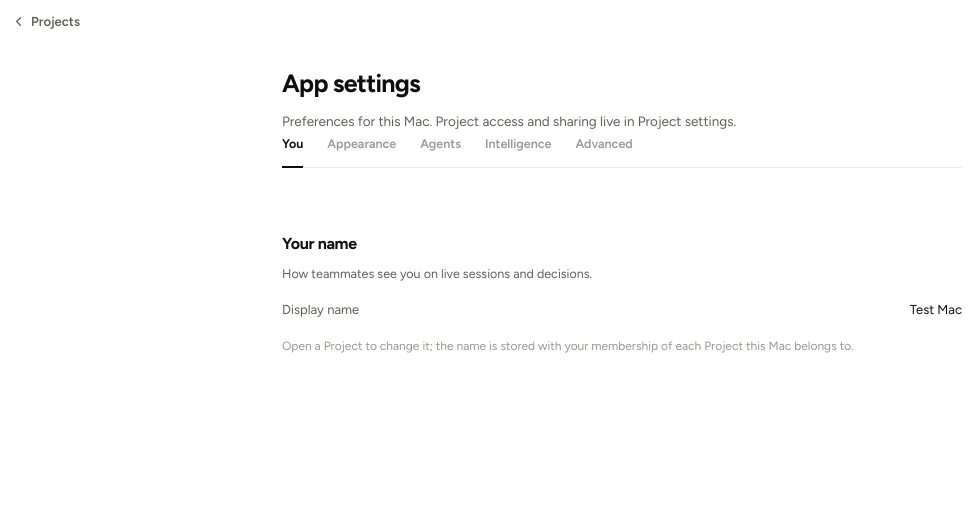
Test: the local service › reports what it is doing as facts rather than a sentence
Click the button "Advanced".
click(604, 150)  # box top-left (575, 133), bottom-right (633, 167)
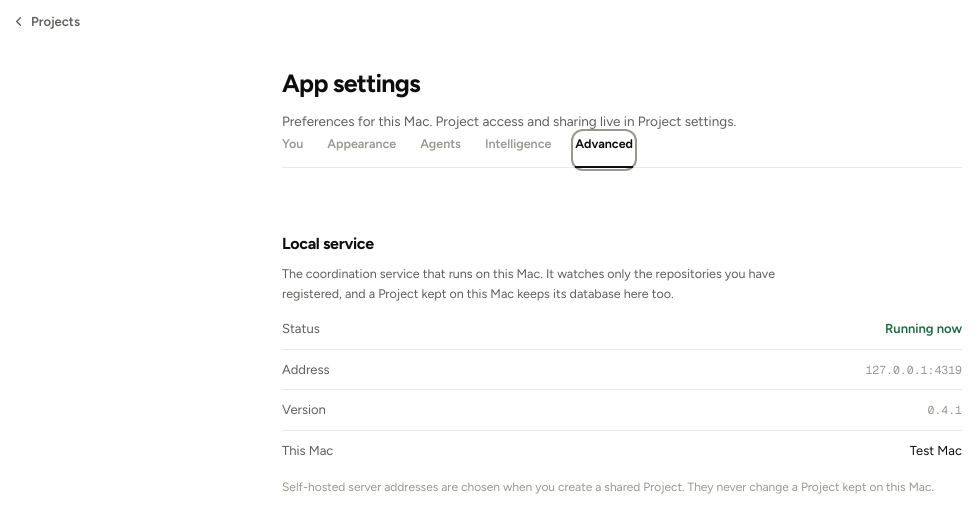
Check: the text "Running now" is shown, box top-left (885, 319), bottom-right (962, 339)
Check: the text "127.0.0.1:4319" is shown, box top-left (865, 361), bottom-right (962, 378)
